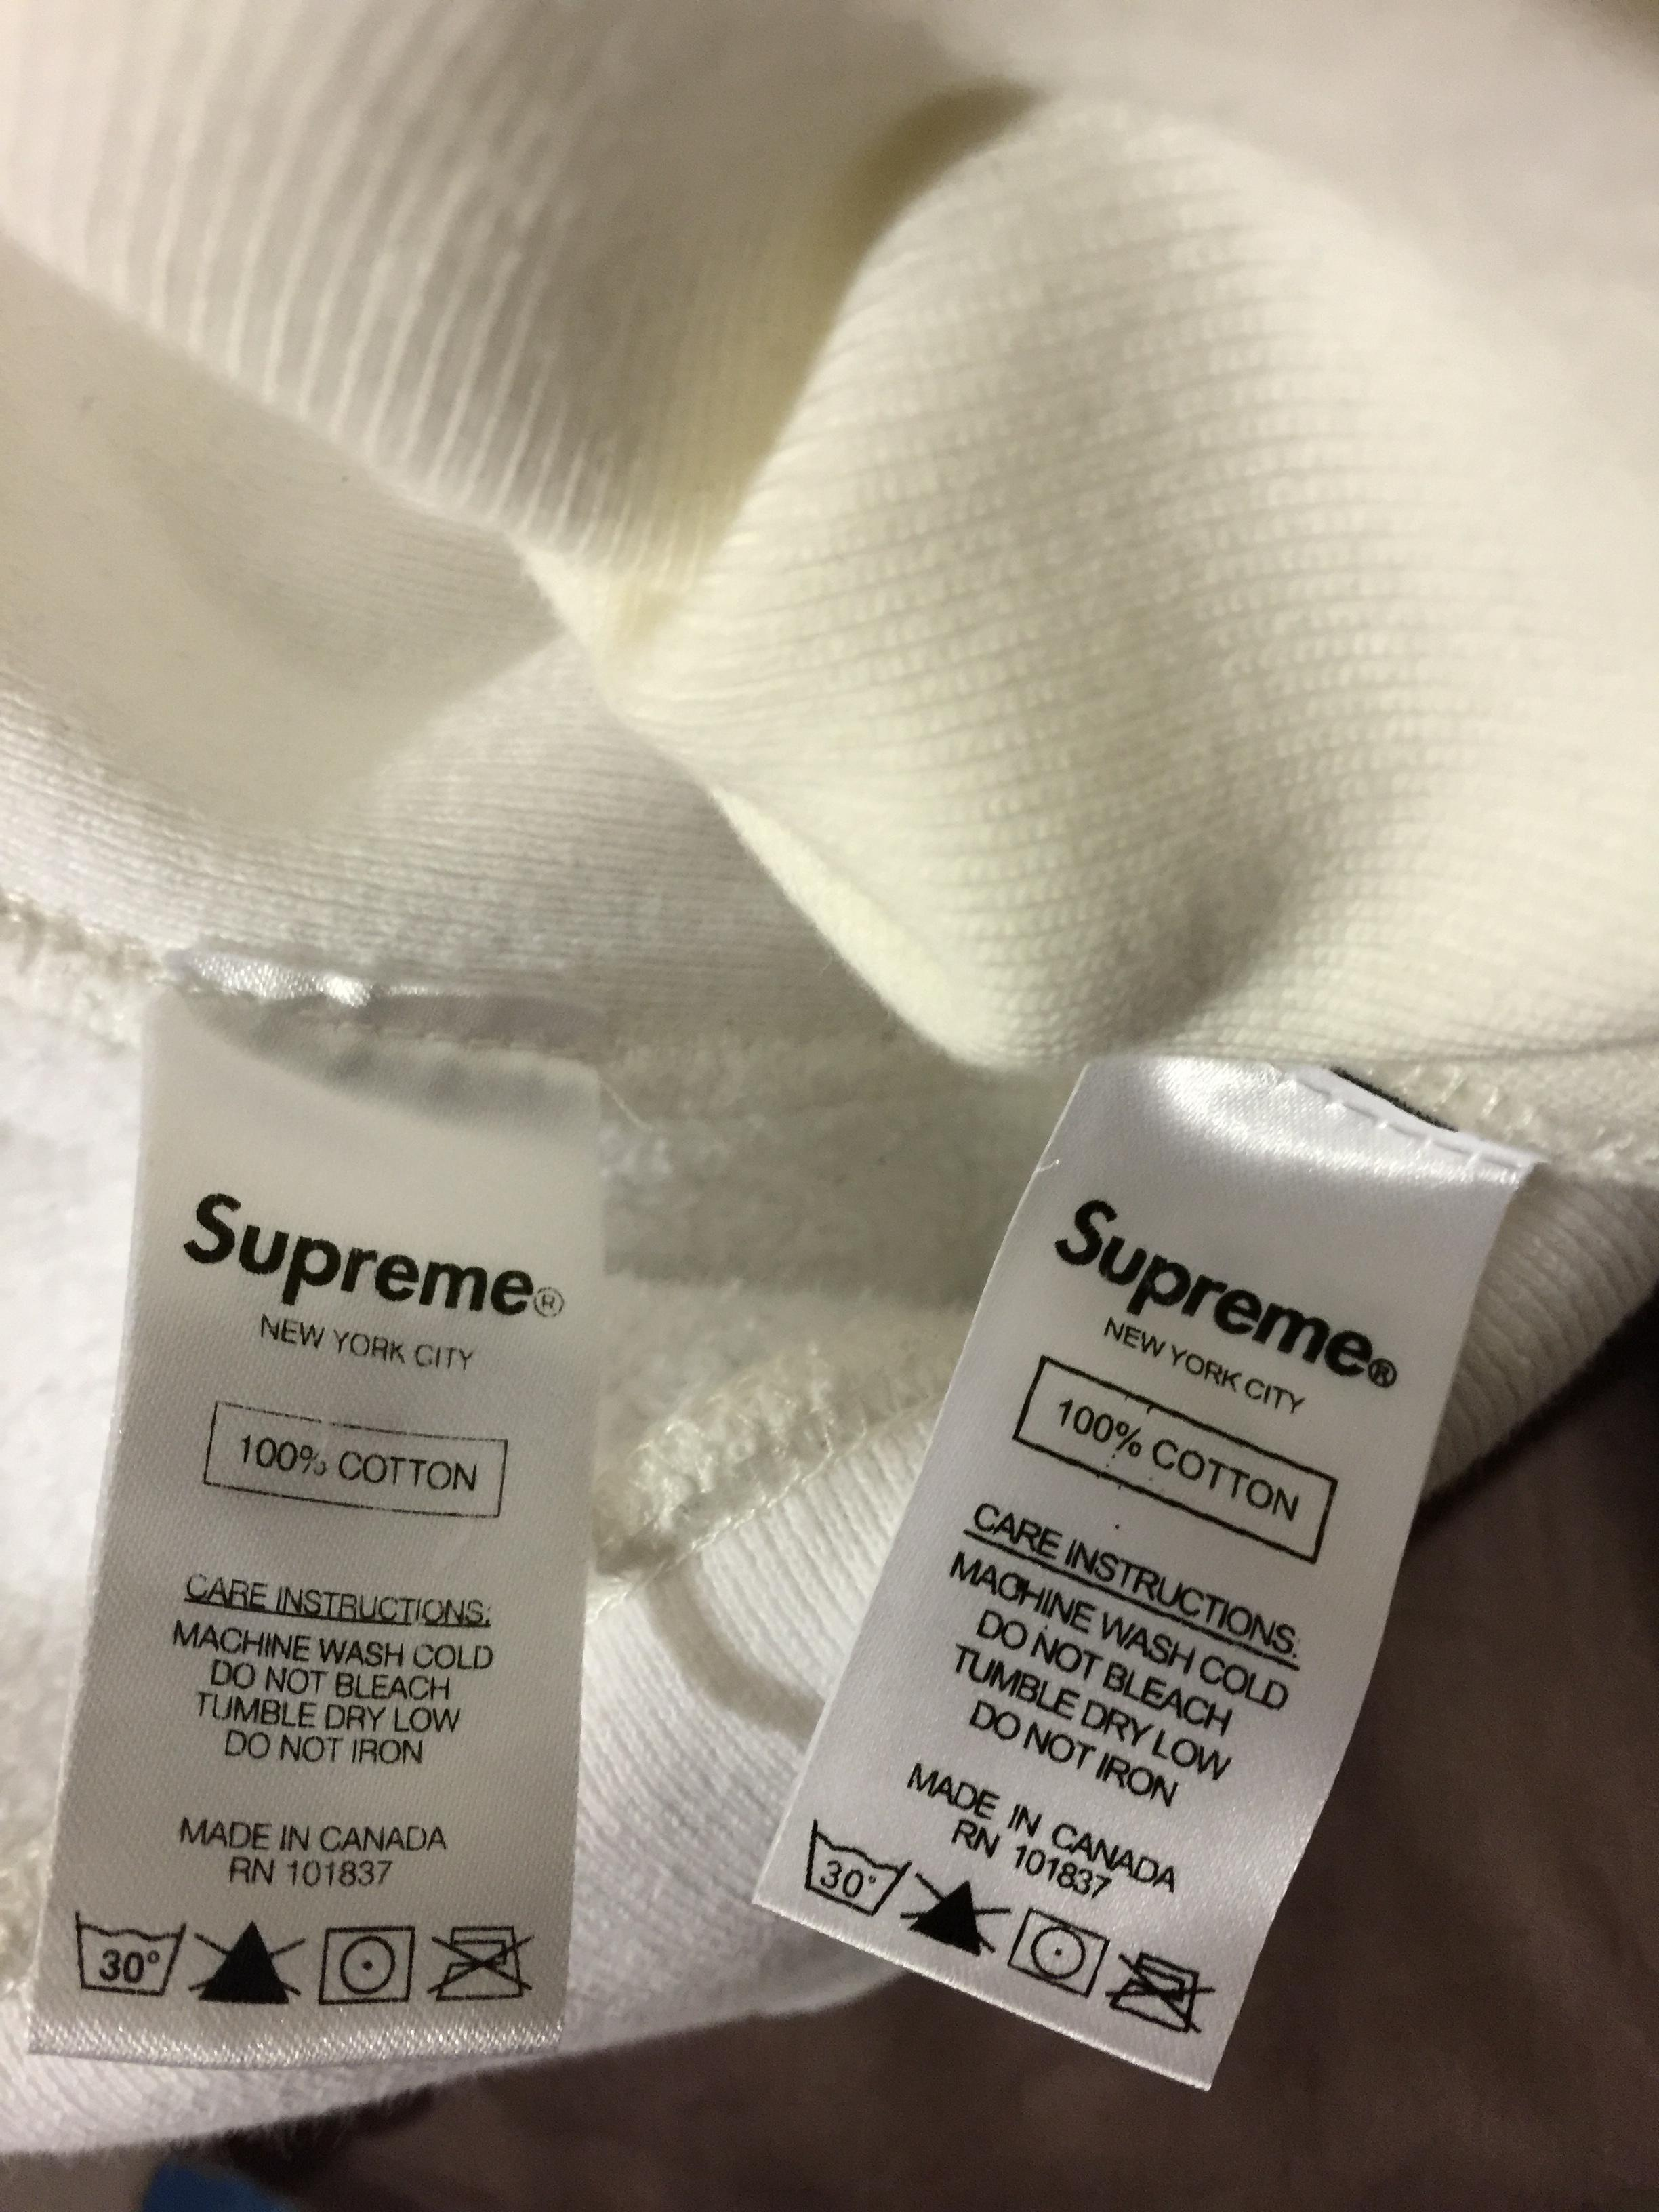do_not_iron: (430, 1919, 540, 2005)
